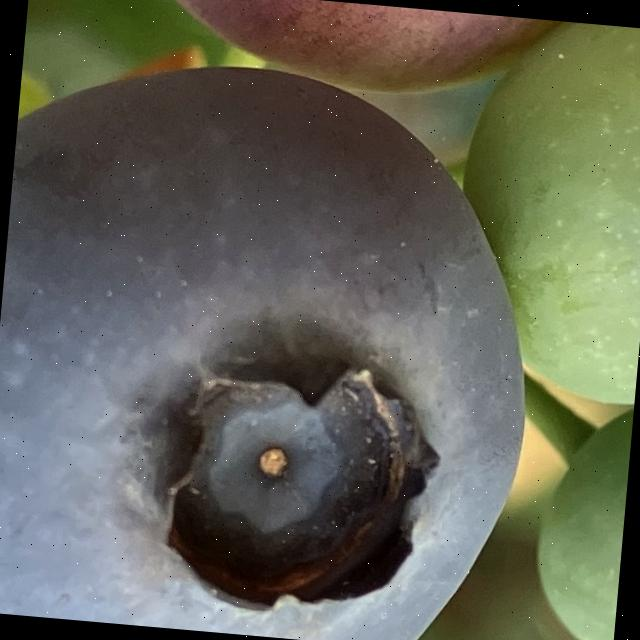Blueberries: (0, 46, 556, 640), (440, 12, 640, 433)
